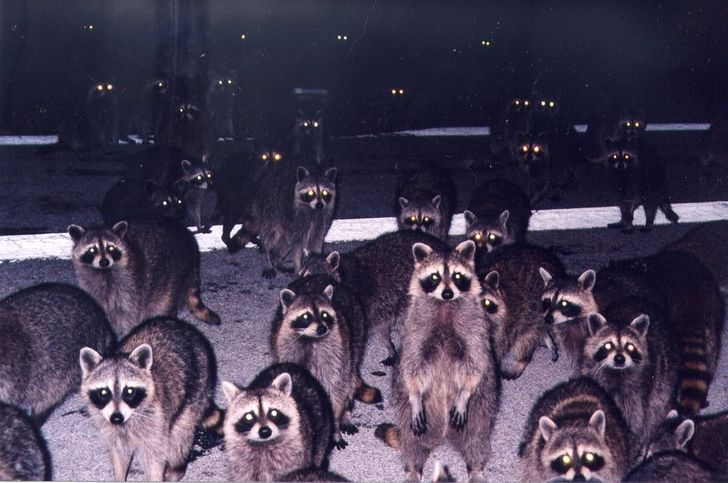raccoon: (36, 317, 169, 476), (403, 231, 496, 447), (59, 205, 210, 319), (214, 354, 324, 480), (274, 282, 363, 412), (576, 307, 671, 426), (532, 254, 621, 372), (244, 158, 342, 258), (526, 380, 618, 481), (460, 257, 522, 360), (459, 203, 519, 256), (390, 184, 448, 237)
